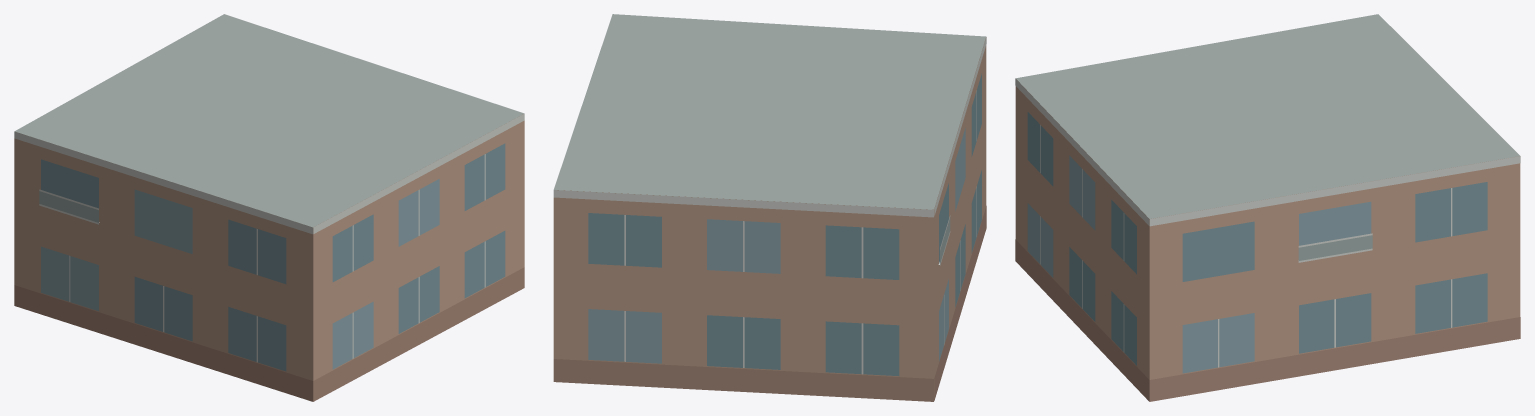
Rendered from survey-upis-32849187.glb.
The picture shows the model from 3 angles, left to right: view 1: azimuth 30°, elevation 25°; view 2: azimuth 150°, elevation 25°; view 3: azimuth 270°, elevation 25°; orthographic projection. The views are drawn at different scales.
Visible parts, largest first — view 1: survey-upis-32849187.tmp; view 2: survey-upis-32849187.tmp; view 3: survey-upis-32849187.tmp.
Boxes of the visible parts, x1=… form: survey-upis-32849187.tmp: x1=14, y1=14, x2=524, y2=401; survey-upis-32849187.tmp: x1=553, y1=14, x2=986, y2=401; survey-upis-32849187.tmp: x1=1015, y1=14, x2=1520, y2=401.
Bounding box in the file's own units: 14.69 × 6.1 × 15.28.
